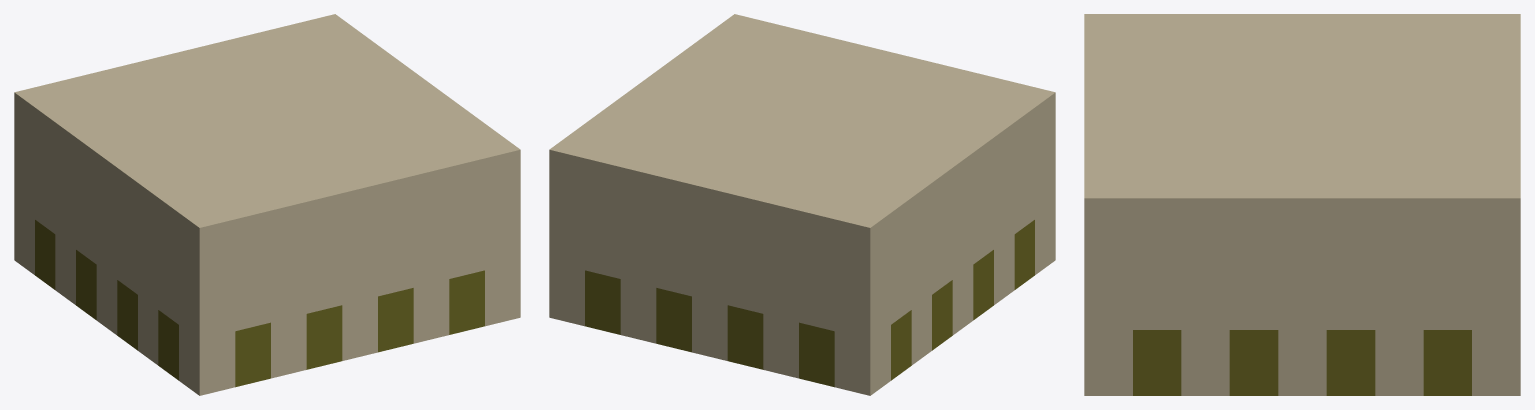
The model's file is q_hezi4.obj.
3 views of the same model, side by side, from view 1: azimuth 30°, elevation 25°; view 2: azimuth 150°, elevation 25°; view 3: azimuth 270°, elevation 25° (orthographic). The views are drawn at different scales.
Visible parts, largest first — view 1: q_hezi4; view 2: q_hezi4; view 3: q_hezi4.
Boxes of the visible parts, left/top/right/bottom form: q_hezi4: left=14, top=14, right=520, bottom=395; q_hezi4: left=549, top=14, right=1055, bottom=395; q_hezi4: left=1084, top=14, right=1520, bottom=395.
Bounding box in the file's own units: 10 × 5 × 10.
